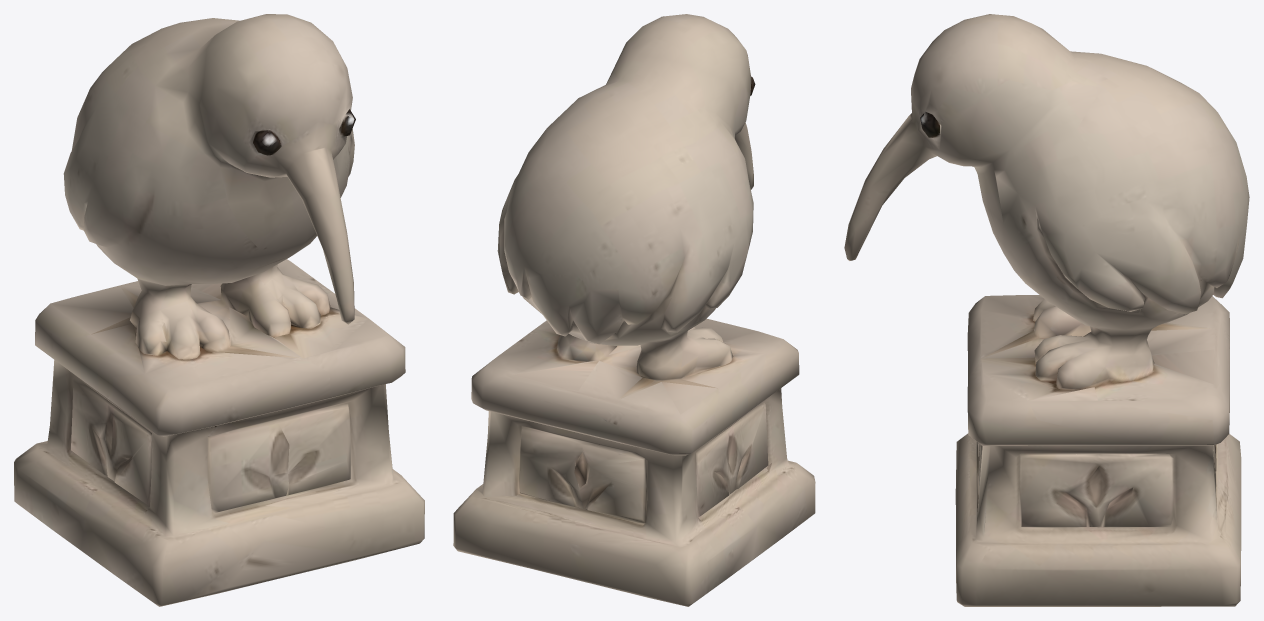
The model's file is kiwistatue.glb.
3 renders of one model, left to right at view 1: azimuth 30°, elevation 25°; view 2: azimuth 150°, elevation 25°; view 3: azimuth 270°, elevation 25°, orthographic. The views are drawn at different scales.
Parts seen in each view (by area): view 1: model; view 2: model; view 3: model.
Part boxes in pixels (x1,y1,x2,y2): model: [14, 14, 424, 606]; model: [453, 14, 815, 606]; model: [844, 14, 1249, 606].
Size of the model in its own units: 1 by 1.9 by 1.33.
1 material, 1 textured.
